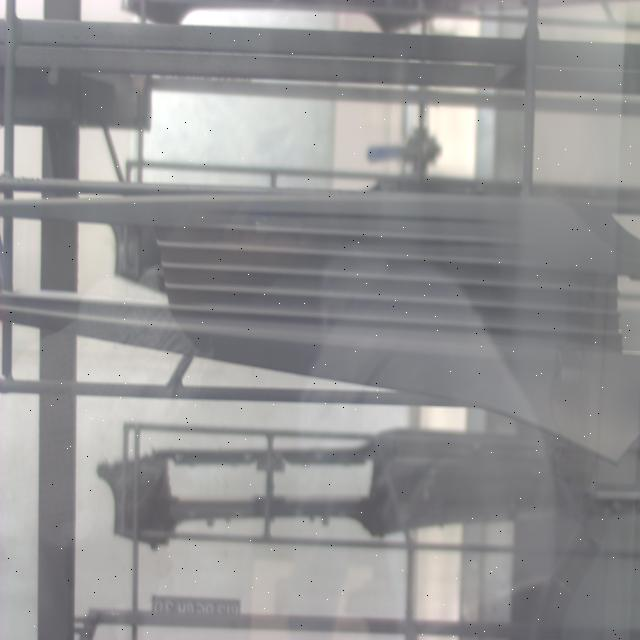Primered: (5, 179, 640, 478)
